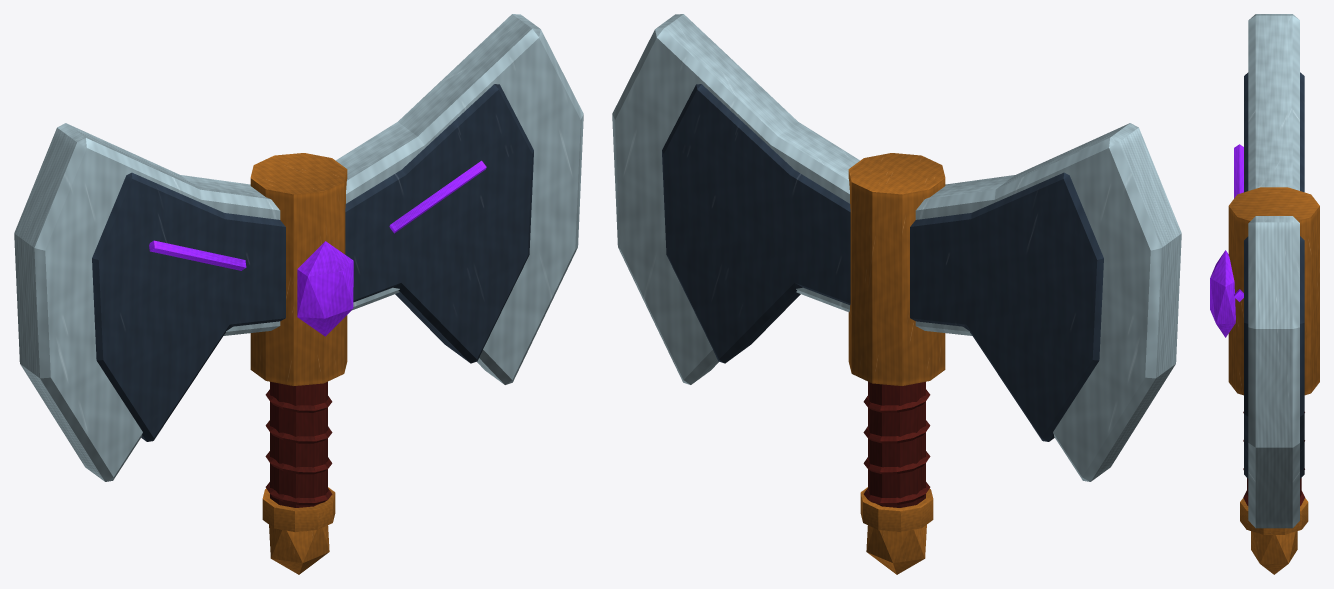
The model's file is axe-t3.glb.
3 renders of one model, left to right at view 1: azimuth 30°, elevation 25°; view 2: azimuth 150°, elevation 25°; view 3: azimuth 270°, elevation 25°, orthographic. The views are drawn at different scales.
Parts seen in each view (by area): view 1: Axe dark inset.001, Axe dark inset, Crescent cutting edge.001, Crescent cutting edge, Axe socket, Leather grip, Void socket, Faceted pommel, Grip ferrule, Axe inlay.001, Axe inlay; view 2: Axe dark inset, Axe dark inset.001, Crescent cutting edge.001, Crescent cutting edge, Axe socket, Leather grip, Faceted pommel, Grip ferrule; view 3: Crescent cutting edge, Crescent cutting edge.001, Axe socket, Axe dark inset, Void socket, Faceted pommel, Axe dark inset.001, Grip ferrule, Axe inlay.001.
Part boxes in pixels (left/top/right/bottom): Axe dark inset.001: left=92, top=172, right=285, bottom=441; Axe dark inset: left=345, top=84, right=533, bottom=363; Crescent cutting edge.001: left=14, top=123, right=280, bottom=481; Crescent cutting edge: left=336, top=14, right=583, bottom=384; Axe socket: left=250, top=153, right=347, bottom=385; Leather grip: left=270, top=381, right=327, bottom=507; Void socket: left=297, top=241, right=353, bottom=336; Faceted pommel: left=269, top=525, right=329, bottom=574; Grip ferrule: left=262, top=487, right=335, bottom=532; Axe inlay.001: left=149, top=240, right=246, bottom=270; Axe inlay: left=389, top=160, right=486, bottom=233; Axe dark inset: left=662, top=84, right=850, bottom=363; Axe dark inset.001: left=910, top=172, right=1103, bottom=441; Crescent cutting edge.001: left=915, top=123, right=1181, bottom=481; Crescent cutting edge: left=612, top=14, right=859, bottom=384; Axe socket: left=848, top=153, right=945, bottom=385; Leather grip: left=868, top=381, right=925, bottom=507; Faceted pommel: left=866, top=525, right=926, bottom=574; Grip ferrule: left=860, top=487, right=933, bottom=532; Crescent cutting edge: left=1248, top=216, right=1299, bottom=528; Crescent cutting edge.001: left=1248, top=14, right=1299, bottom=190; Axe socket: left=1228, top=187, right=1319, bottom=395; Axe dark inset: left=1244, top=236, right=1304, bottom=478; Void socket: left=1210, top=250, right=1235, bottom=337; Faceted pommel: left=1251, top=531, right=1297, bottom=574; Axe dark inset.001: left=1244, top=72, right=1304, bottom=192; Grip ferrule: left=1240, top=498, right=1308, bottom=534; Axe inlay.001: left=1234, top=144, right=1243, bottom=198.
Bounding box in the file's own units: 1.04 × 0.9 × 0.195.
Materials: 1 (1 with a texture image).
